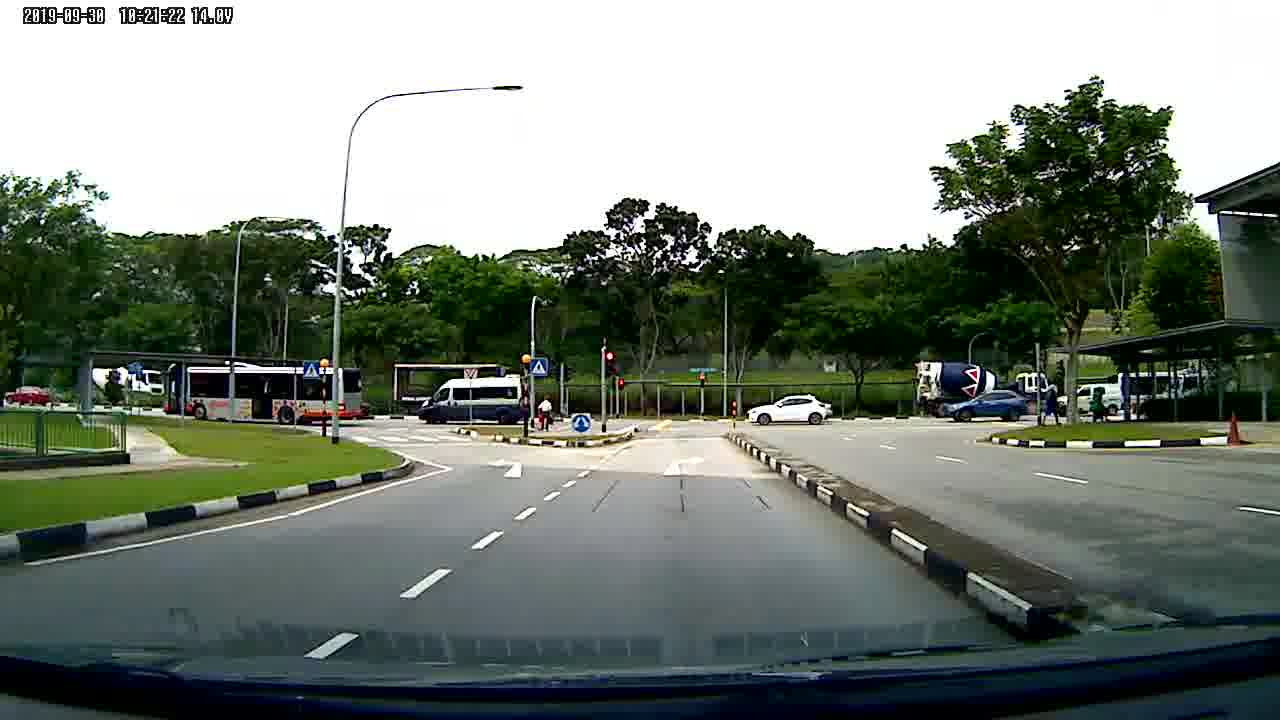bus: (161, 355, 365, 433)
car: (744, 392, 834, 431), (934, 390, 1035, 420), (4, 386, 60, 405)
